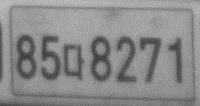1: (165, 36, 185, 84)
2: (115, 35, 138, 82)
5: (40, 34, 61, 81)
7: (138, 36, 161, 83)
8: (90, 34, 113, 83), (15, 32, 38, 80)
다: (61, 42, 86, 83)
